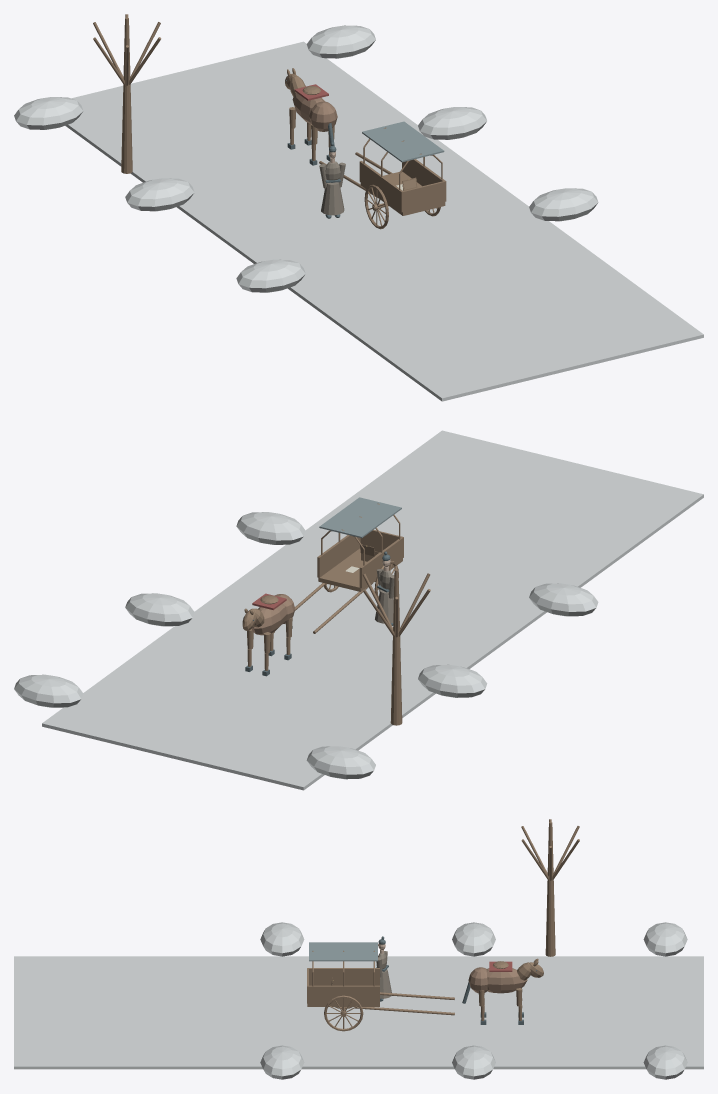
3 renders of one model, top to bottom at view 1: azimuth 30°, elevation 25°; view 2: azimuth 150°, elevation 25°; view 3: azimuth 270°, elevation 25°, orthographic. The views are drawn at different scales.
Visible parts, largest first — view 1: roadbed (×6), snowbank (×6), canvas_roof, trunk, left_rail, rear_board, right_rail, hindquarters, robe_skirt; view 2: roadbed (×6), snowbank (×6), canvas_roof, trunk, bed, right_rail, left_rail, barrel; view 3: roadbed (×6), snowbank (×6), canvas_roof, right_rail, left_rail, trunk, barrel, hindquarters.
Part boxes in pixels (x1,y1,x2,y2): roadbed (×6): [65, 41, 703, 401]; snowbank (×6): [14, 25, 598, 292]; canvas_roof: [362, 121, 444, 162]; trunk: [121, 17, 132, 173]; left_rail: [359, 161, 402, 212]; rear_board: [402, 181, 445, 211]; right_rail: [402, 159, 446, 201]; hindquarters: [309, 101, 337, 131]; robe_skirt: [321, 182, 344, 215]; roadbed (×6): [42, 430, 703, 790]; snowbank (×6): [14, 512, 598, 779]; canvas_roof: [319, 497, 401, 538]; trunk: [390, 569, 402, 725]; bed: [318, 548, 402, 591]; right_rail: [317, 535, 360, 577]; left_rail: [359, 537, 403, 588]; barrel: [251, 603, 286, 635]; roadbed (×6): [14, 956, 703, 1069]; snowbank (×6): [260, 922, 687, 1079]; canvas_roof: [309, 942, 377, 961]; right_rail: [307, 985, 379, 1003]; left_rail: [307, 968, 379, 985]; trunk: [545, 822, 555, 956]; barrel: [486, 968, 527, 993]; hindquarters: [468, 967, 487, 993].
Bounding box in the file's own units: 9.3 × 3.88 × 18.
